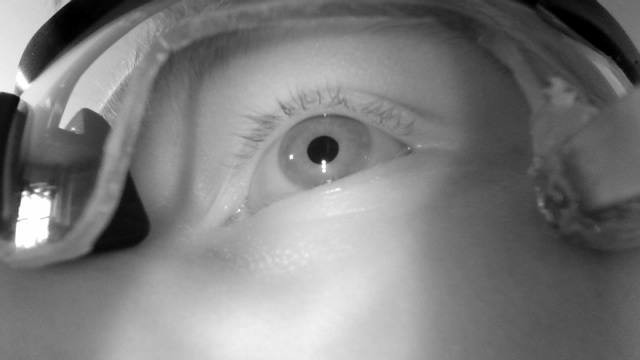pupil: (306, 135, 340, 165)
